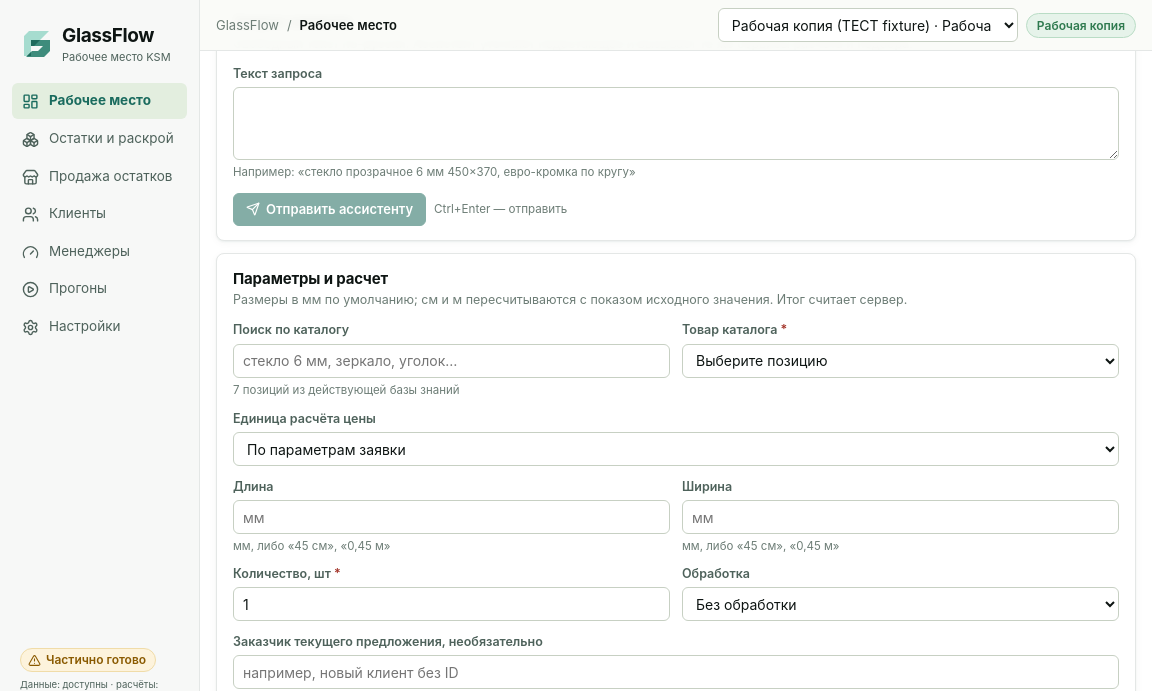
Test case: fixture transport (explicit test mode) › shows unmapped catalog material distinctly from "no stock" and NEW
The image size is (1152, 691).
(page scrolled)
Select "Стекло рифлёное прозрачное 8 мм" in the dropdown labelled "Товар каталога *": (900, 360) [682,344,1119,378]
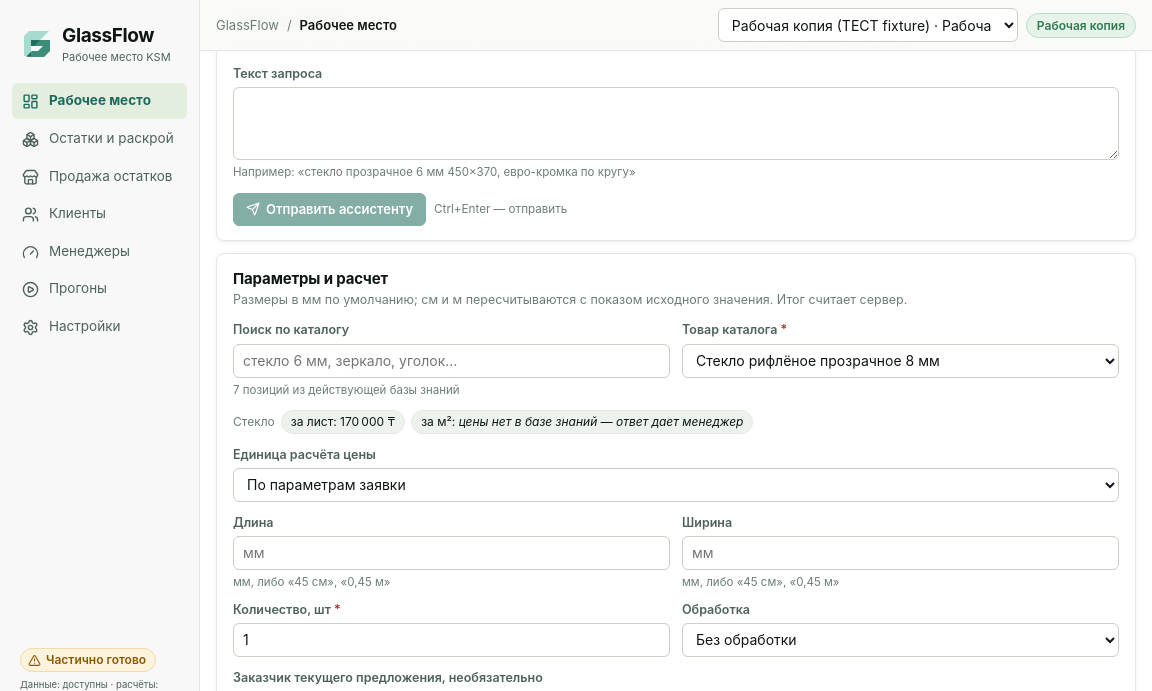
In the field labelled "Длина": (452, 553) [233,536,670,570], type "500"
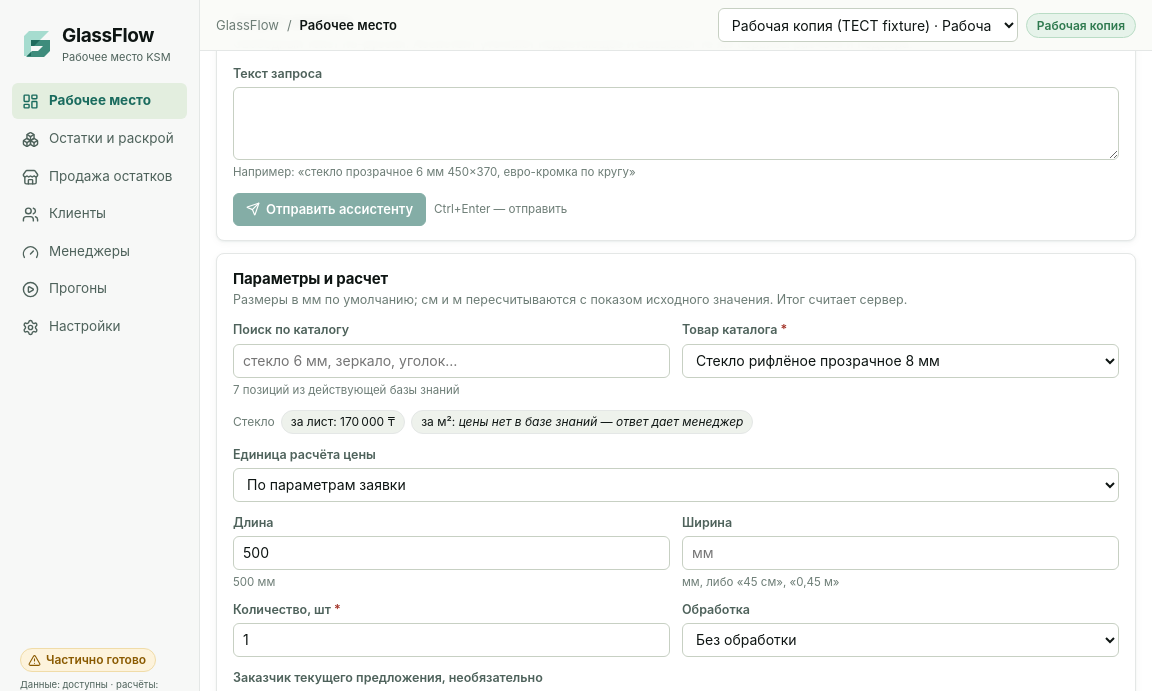
In the field labelled "Ширина": (900, 553) [682,536,1119,570], type "500"
(page scrolled)
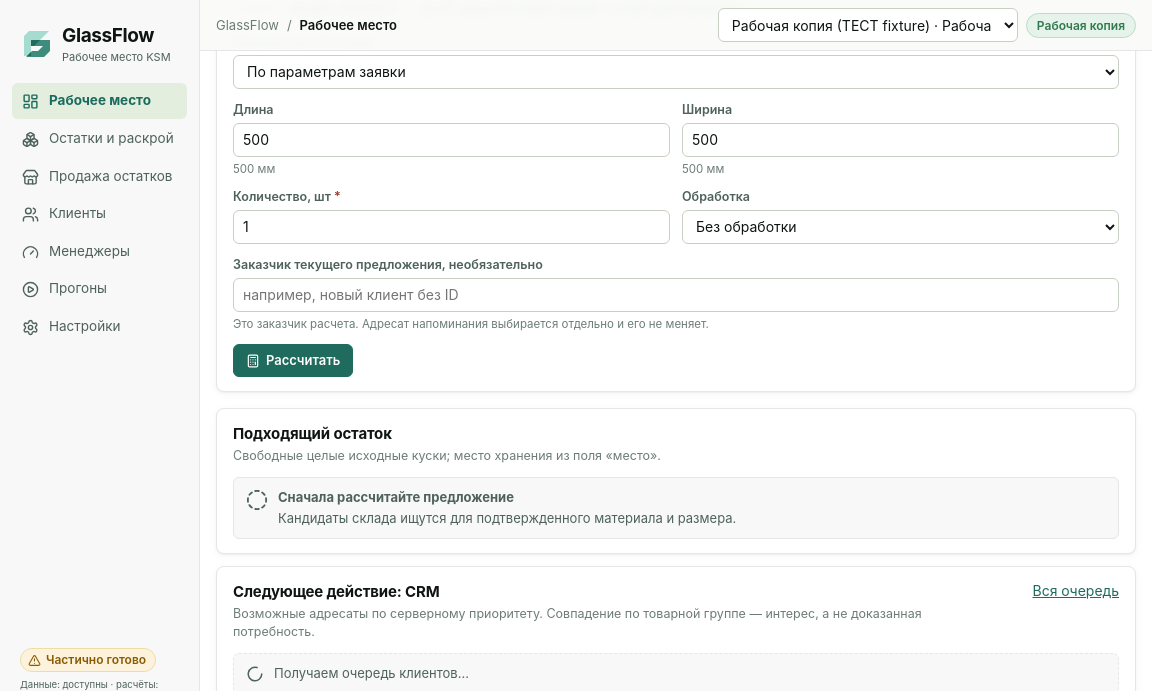
Click the button "Рассчитать": (293, 361) [233,344,353,377]
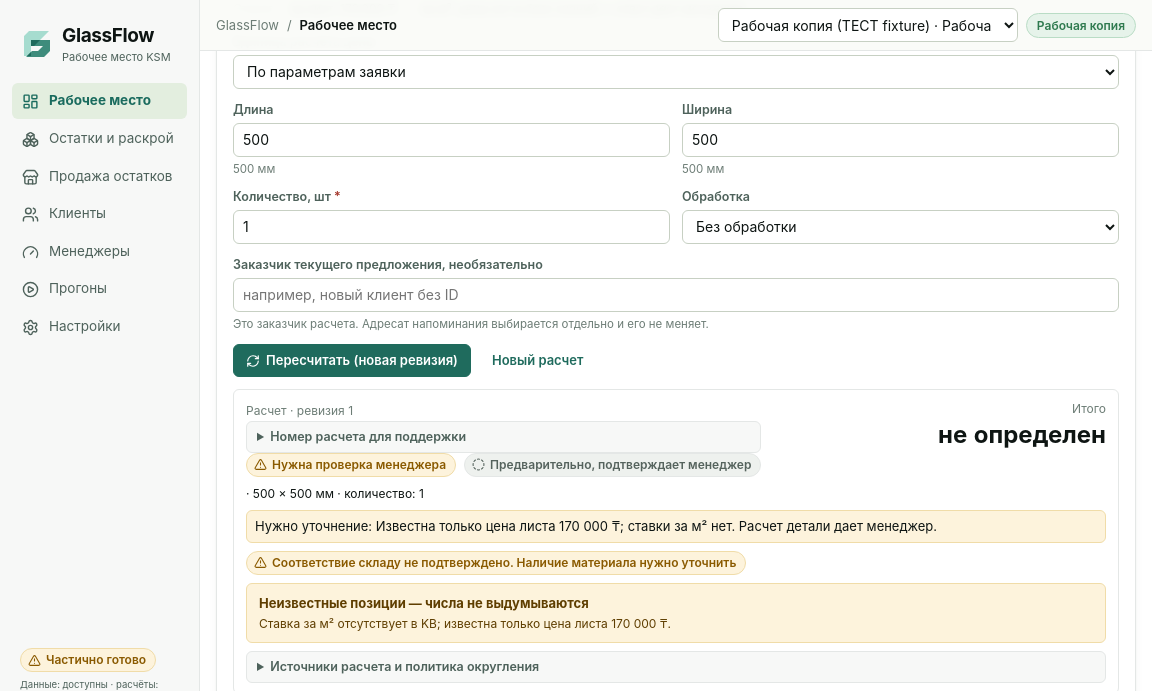
Now the text "Соответствие складу не подтверждено. Наличие материала нужно уточнить" is shown, box [272,554,736,572]
Now the text "не определен" is shown, box [938,418,1106,452]
